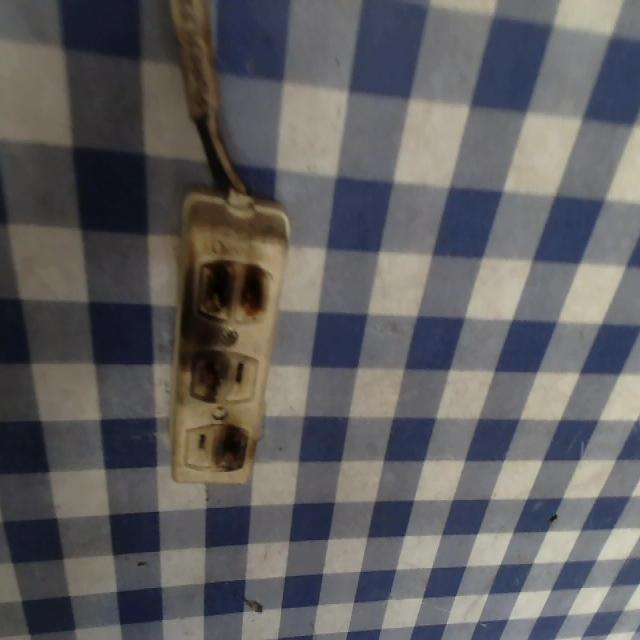-: (190, 257, 270, 323), (183, 347, 228, 405), (210, 421, 248, 471)
